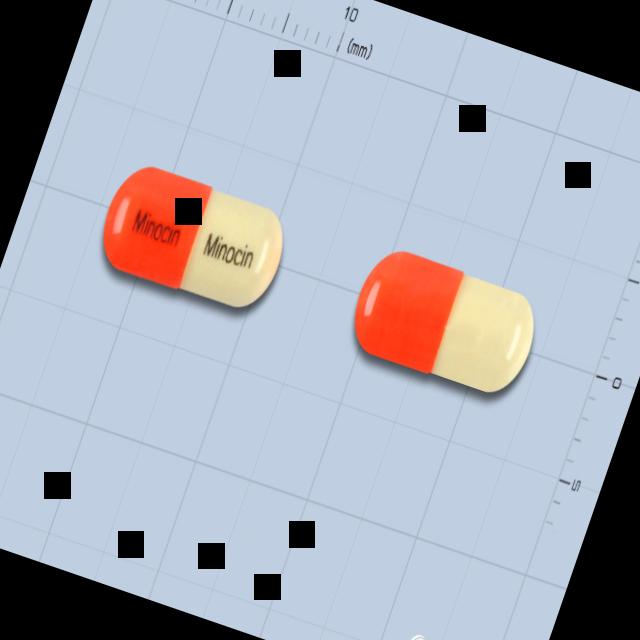Claniz: (342, 240, 550, 406), (90, 156, 296, 320)
